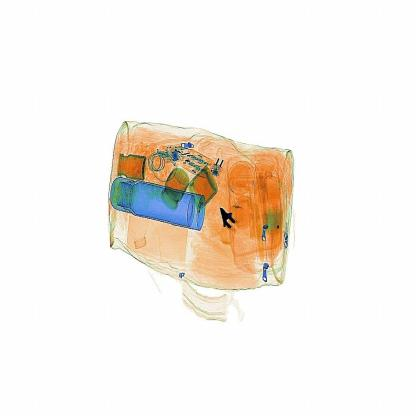gun: (214, 198, 246, 248)
